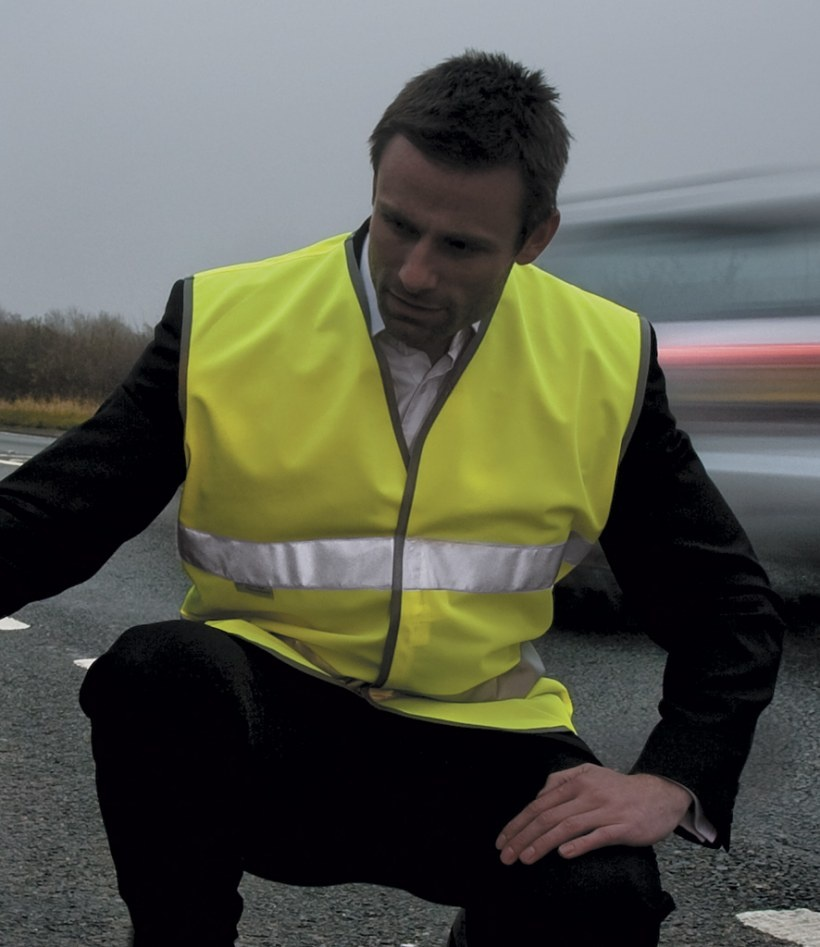person with partial safety: (52, 55, 730, 946)
safety vest: (164, 241, 635, 747)
